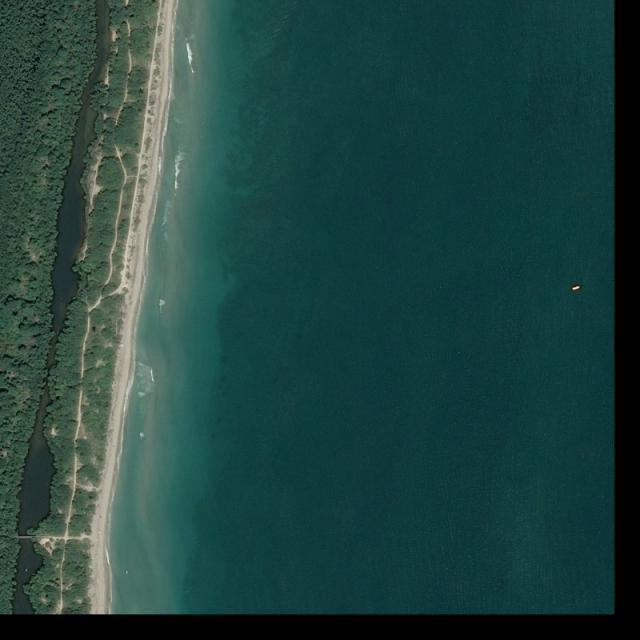ship: (572, 286, 580, 290)
